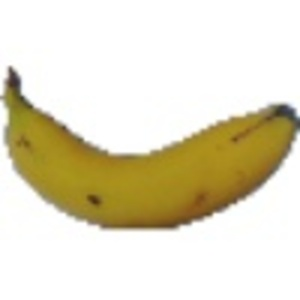banana: (4, 59, 295, 233)
